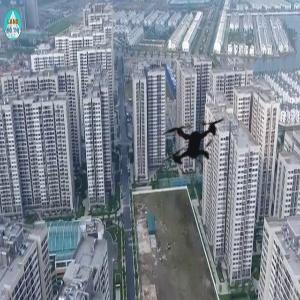drone: (141, 89, 247, 195)
